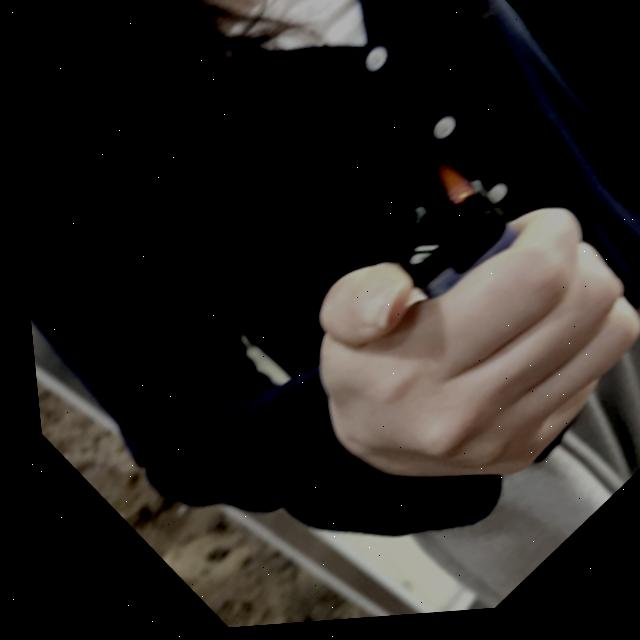Fire: (412, 153, 478, 220)
